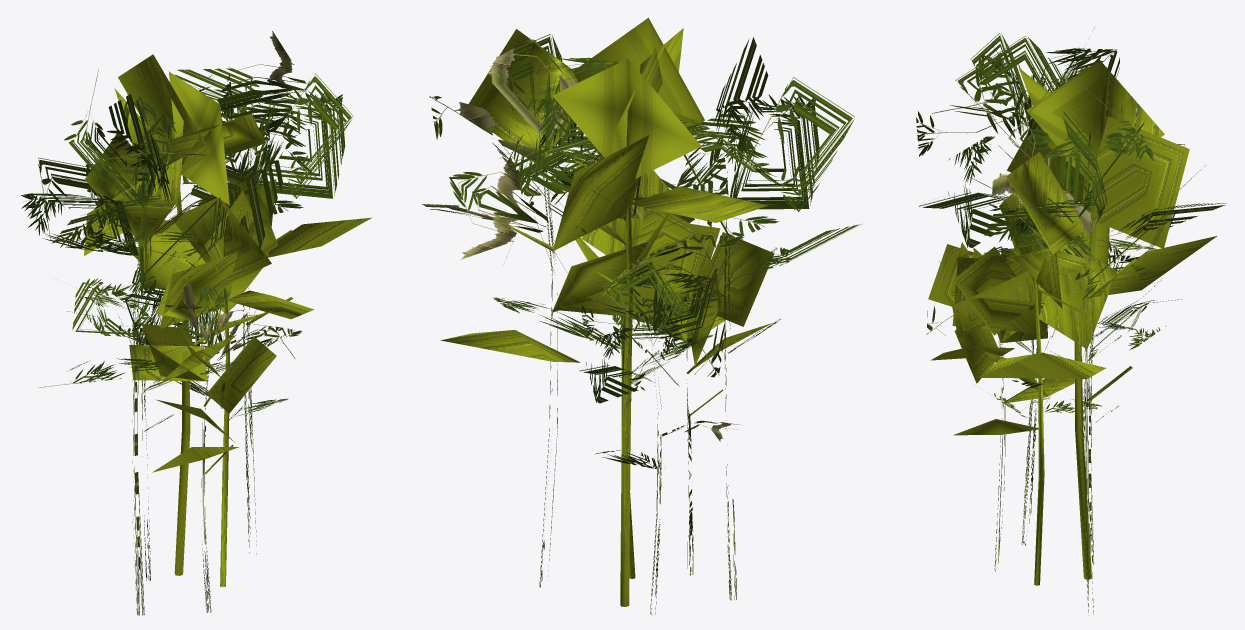
Rendered from bamboo.glb.
3 renders of one model, left to right at view 1: azimuth 30°, elevation 25°; view 2: azimuth 150°, elevation 25°; view 3: azimuth 270°, elevation 25°, orthographic. The views are drawn at different scales.
Visible parts, largest first — view 1: Bamboo; view 2: Bamboo; view 3: Bamboo.
Boxes of the visible parts, x1,y1,x2,y2 form: Bamboo: (21,31,371,615); Bamboo: (422,18,862,615); Bamboo: (916,27,1226,615).
Size of the model in its own units: 5.62 by 8 by 4.5.
Materials: 2 (2 with a texture image).
